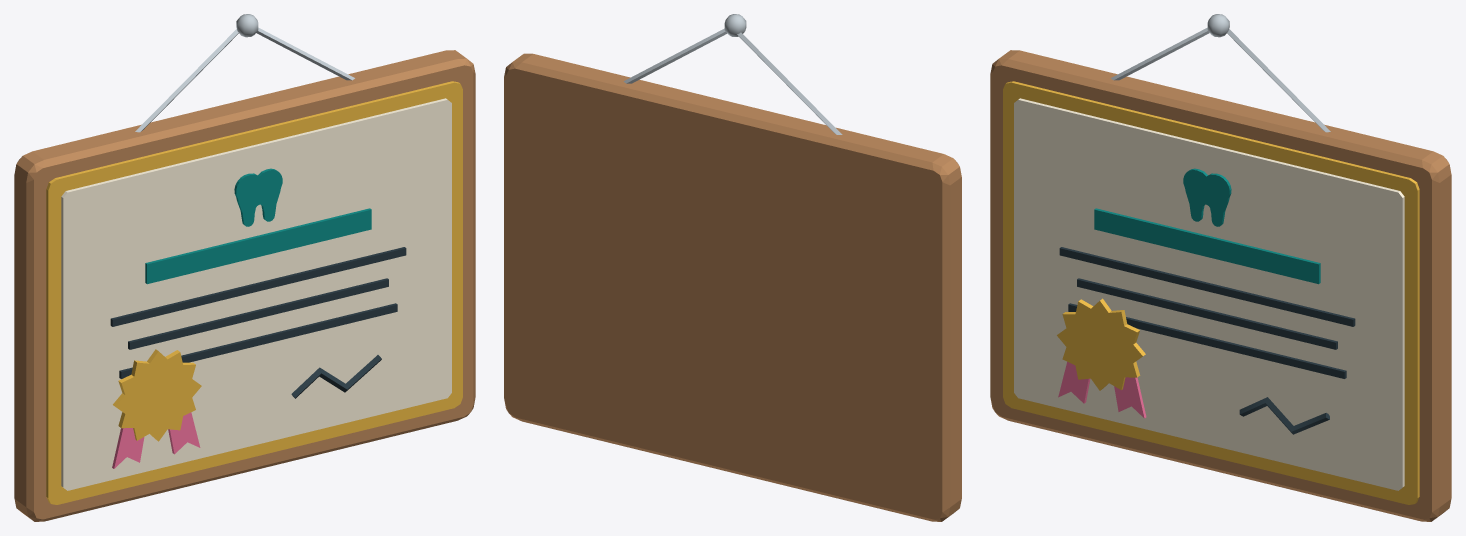
The model's file is certificate.glb.
The picture shows the model from 3 angles, left to right: view 1: azimuth 30°, elevation 25°; view 2: azimuth 150°, elevation 25°; view 3: azimuth 330°, elevation 25°; orthographic projection.
Visible parts, largest first — view 1: Certificate; view 2: Certificate; view 3: Certificate.
Part boxes in pixels (left/top/right/bottom): Certificate: left=14, top=14, right=475, bottom=521; Certificate: left=504, top=14, right=961, bottom=521; Certificate: left=990, top=14, right=1451, bottom=521.
Bounding box in the file's own units: 0.52 × 0.502 × 0.0525.
